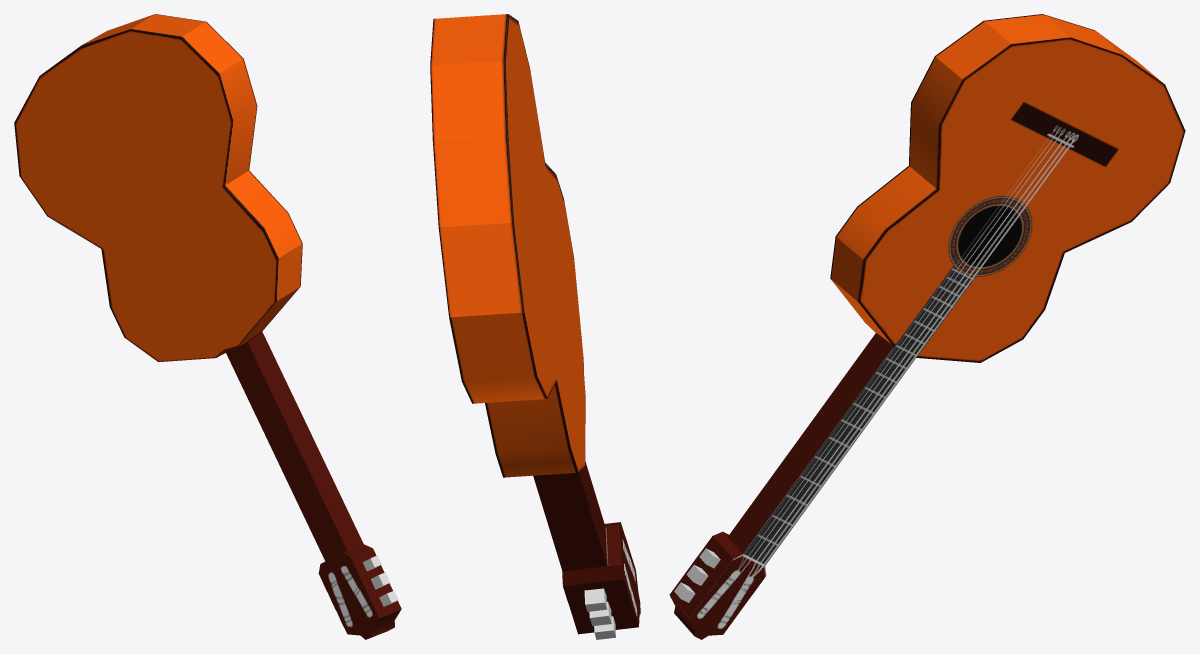
The model's file is guitarra2_000194.obj.
3 views of the same model, side by side, from view 1: azimuth 30°, elevation 25°; view 2: azimuth 150°, elevation 25°; view 3: azimuth 270°, elevation 25° (orthographic). The views are drawn at different scales.
Parts seen in each view (by area): view 1: g2_pPlane4.001; view 2: g2_pPlane4.001; view 3: g2_pPlane4.001.
Part boxes in pixels (x1,y1,x2,y2): g2_pPlane4.001: (14, 14, 401, 639); g2_pPlane4.001: (430, 14, 640, 639); g2_pPlane4.001: (669, 14, 1185, 639).
Size of the model in its own units: 3.84 by 10.7 by 8.68.
